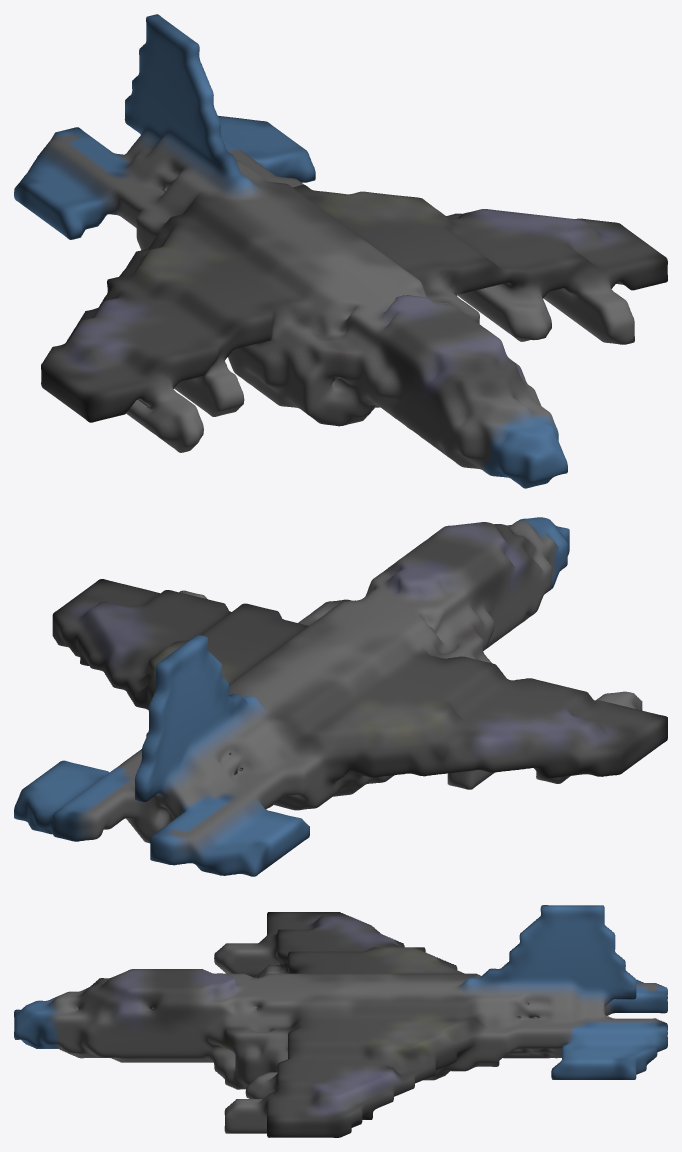
File: black_eagle.glb
The picture shows the model from 3 angles, top to bottom: view 1: azimuth 30°, elevation 25°; view 2: azimuth 150°, elevation 25°; view 3: azimuth 270°, elevation 25°; orthographic projection. The views are drawn at different scales.
Visible parts, largest first — view 1: black_eagle; view 2: black_eagle; view 3: black_eagle.
Part boxes in pixels (x1,y1,x2,y2): black_eagle: [14, 14, 667, 488]; black_eagle: [14, 517, 667, 876]; black_eagle: [14, 905, 667, 1137].
Size of the model in its own units: 3.9 by 1.35 by 5.15.
